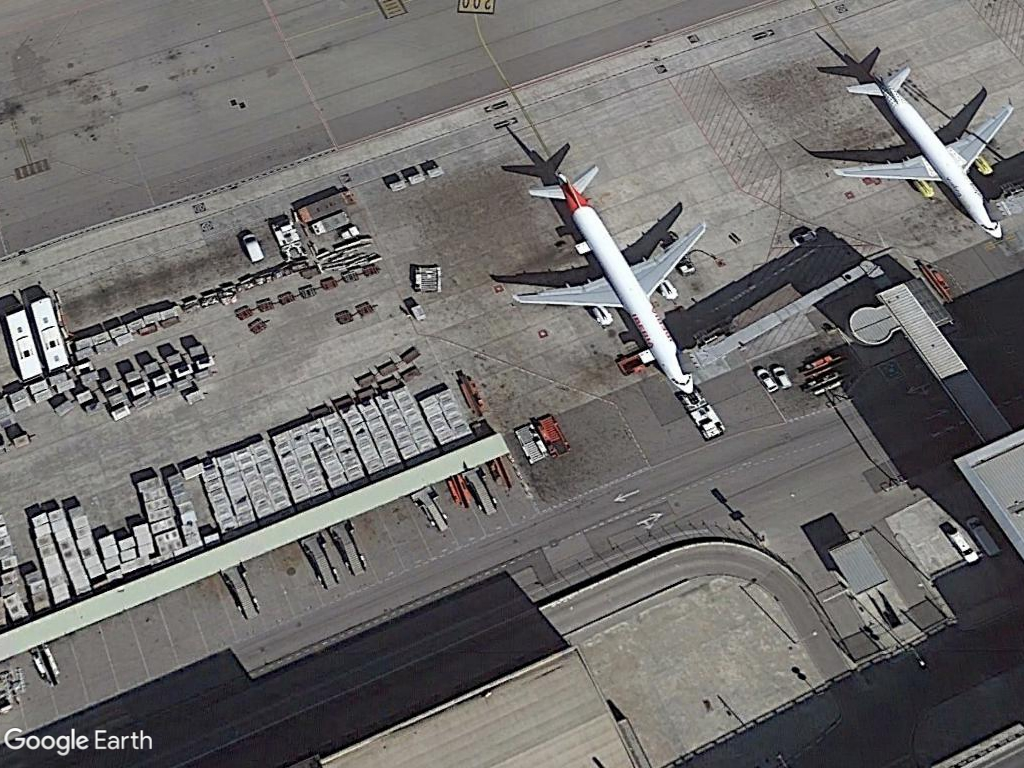airliner: (497, 161, 708, 399), (820, 59, 1013, 249)
bus: (27, 279, 75, 370), (0, 296, 44, 382)
pushbacktruck: (678, 392, 732, 446)
van: (235, 229, 268, 267)
